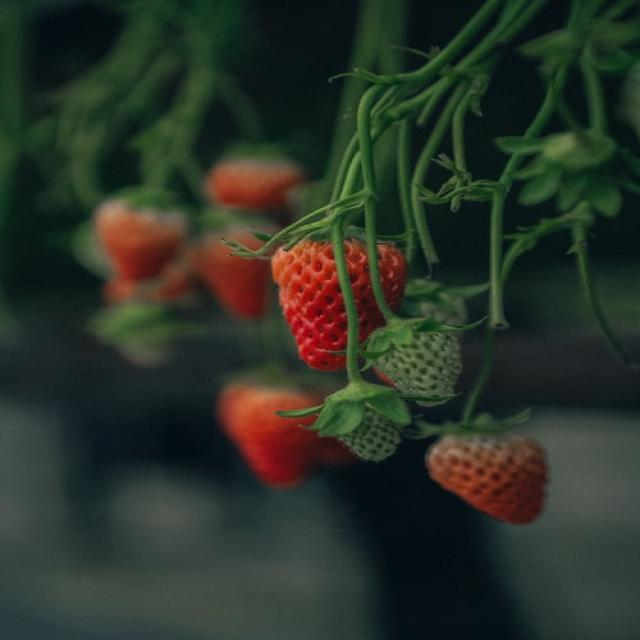immature: (427, 423, 550, 526), (364, 325, 462, 405), (323, 385, 408, 463)
mature: (272, 235, 408, 371), (222, 374, 333, 488), (192, 217, 282, 321), (98, 190, 189, 284)
